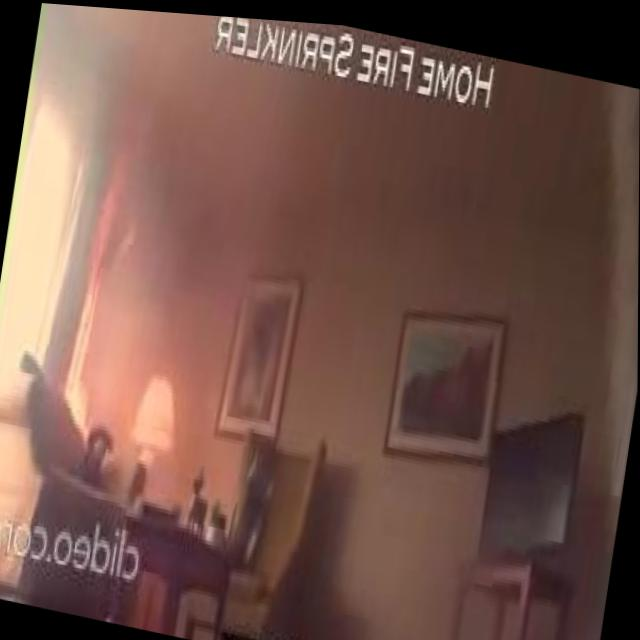fire: (56, 145, 146, 446)
